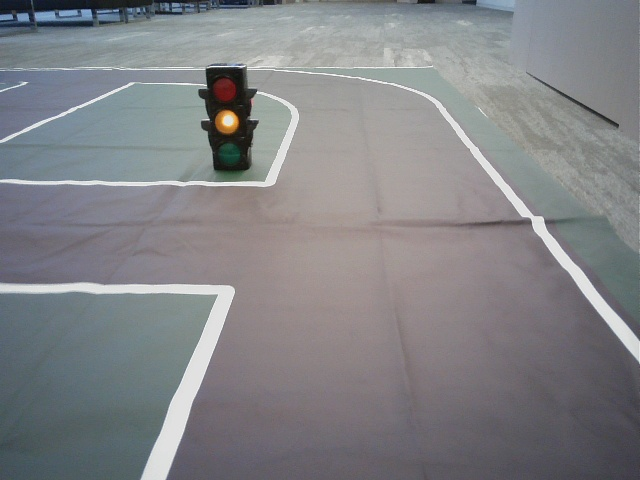yellow: (208, 70, 245, 166)
